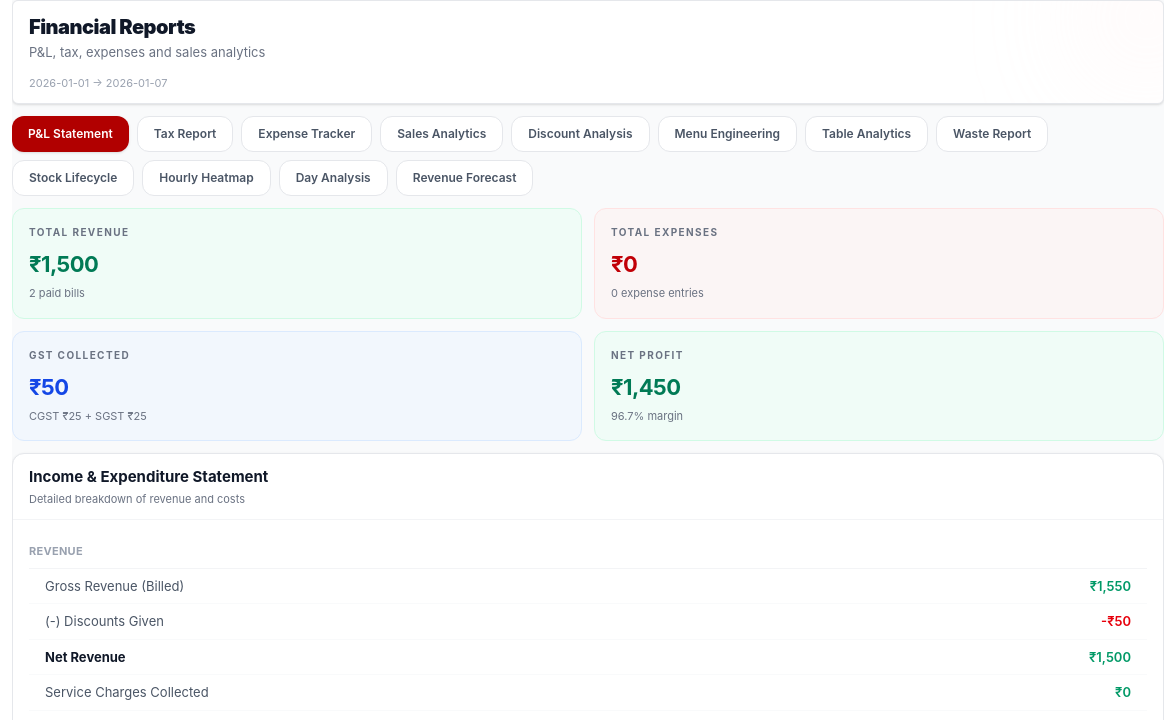
Reports page — characterisation › renders the Table Analytics tab's own content
Click the button "Table Analytics". click: point(867, 134)
box: [805,116,928,152]
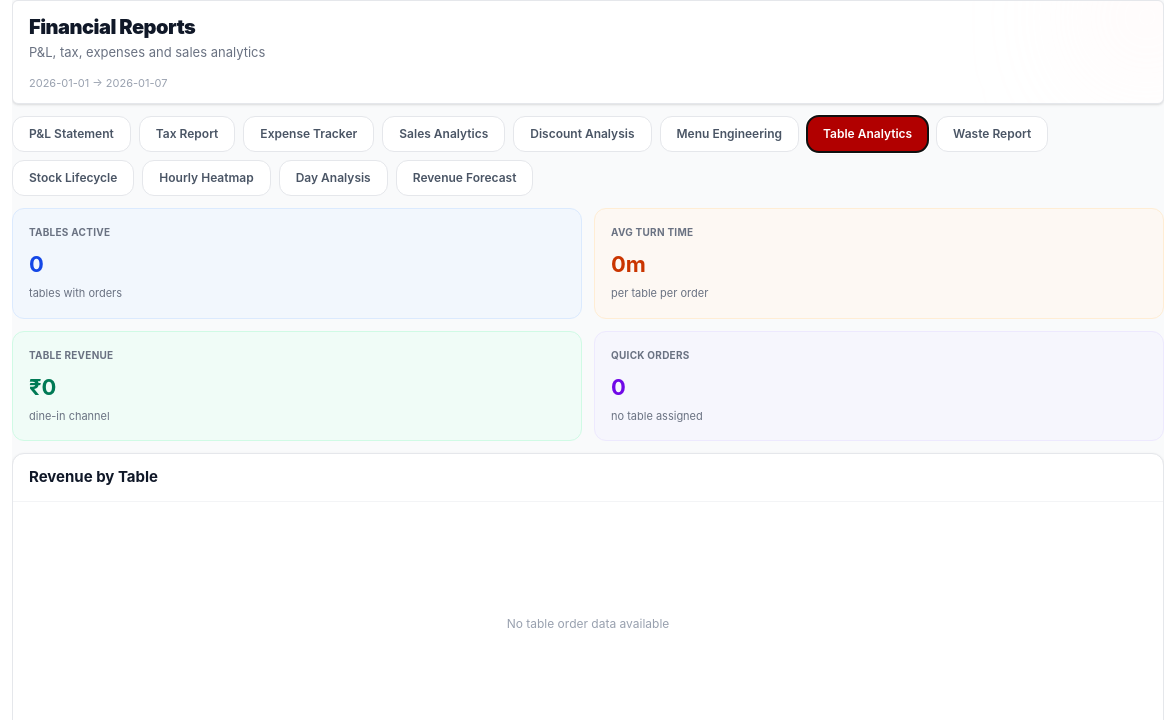
Check: the text "Avg Turn Time" is shown, box [611,226,693,238]
